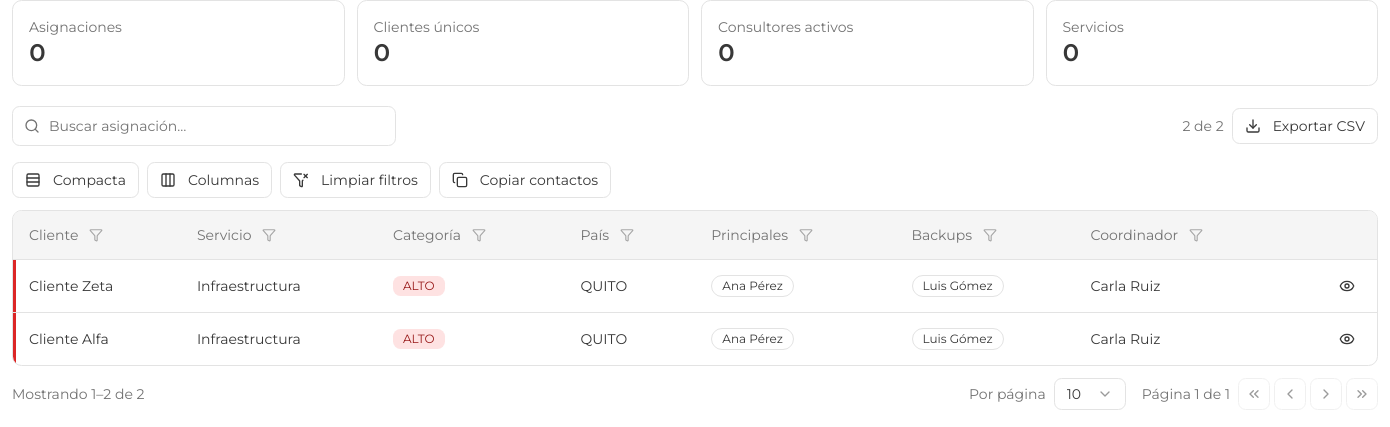
Limpiar filtros borra la búsqueda y ordena los clientes alfabéticamente
This screenshot has width=1390, height=427.
Type "zzz" into the field with placeholder "Buscar asignación…" at (204, 126), box [12,106,396,146]
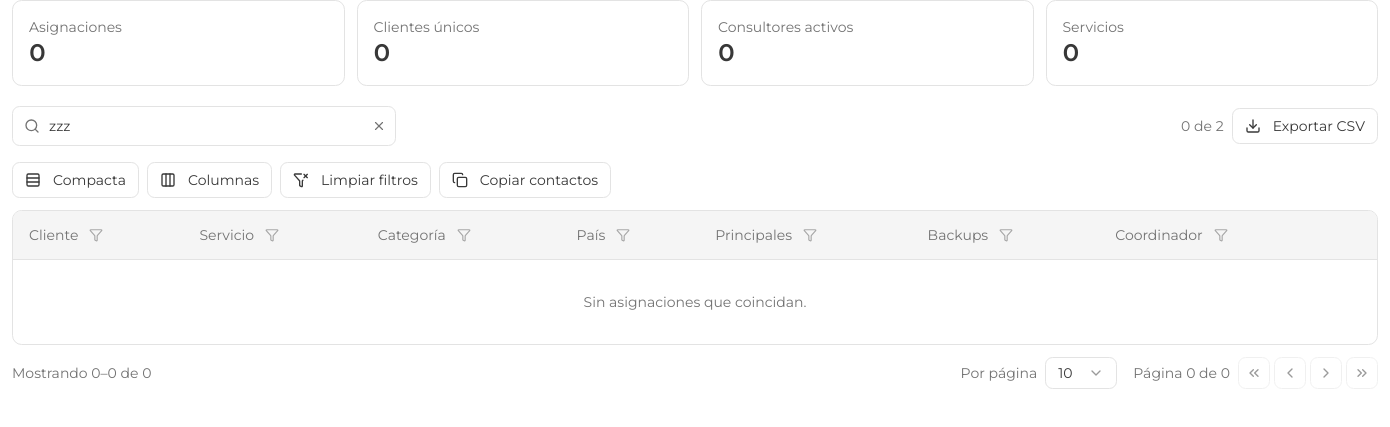
Now the text "Cliente Zeta" is gone
Click the button "Limpiar filtros" at (355, 180), box [280,162,431,198]
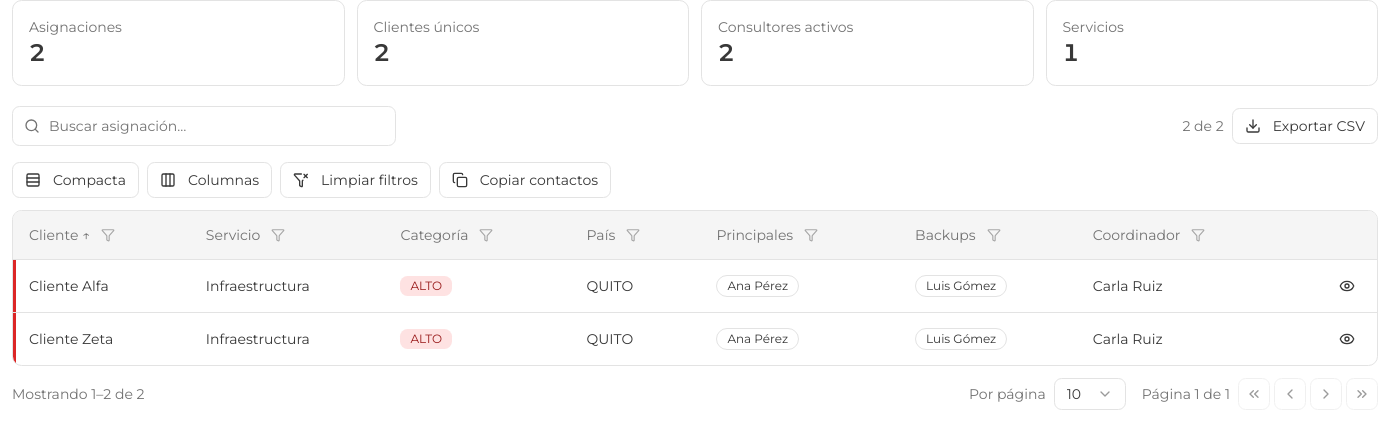
Now the text "Cliente Alfa" is shown, box [29,276,109,294]
Now the field with placeholder "Buscar asignación…" is empty, box [12,106,396,146]
